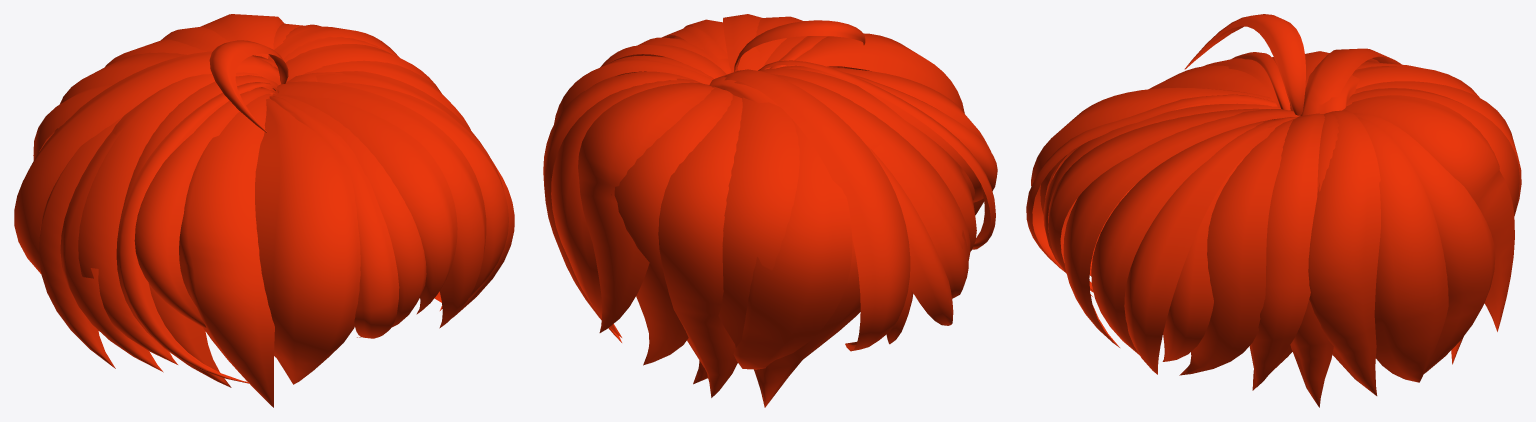
File: hair_03_common.fbx
3 renders of one model, left to right at view 1: azimuth 30°, elevation 25°; view 2: azimuth 150°, elevation 25°; view 3: azimuth 270°, elevation 25°, orthographic. The views are drawn at different scales.
Parts seen in each view (by area): view 1: hair_03_common; view 2: hair_03_common; view 3: hair_03_common.
Part boxes in pixels (x1,y1,x2,y2): hair_03_common: (14,14,514,407); hair_03_common: (543,14,997,407); hair_03_common: (1026,14,1521,407).
Size of the model in its own units: 1.84 by 1.45 by 2.
